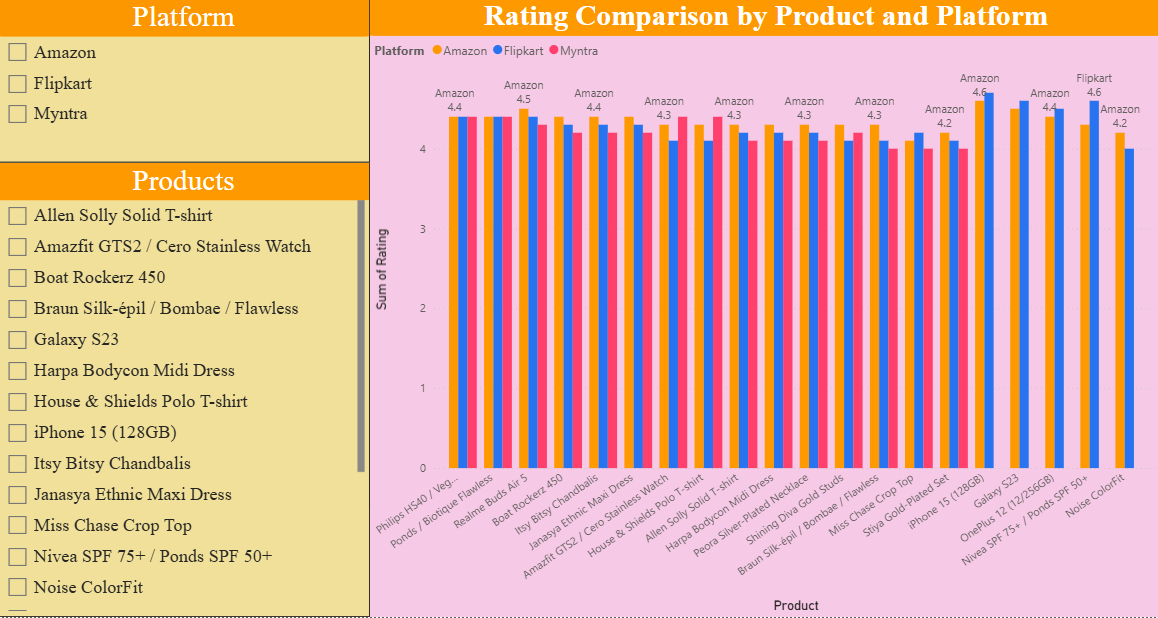

The dashboard page shown, as its layout file describes it:
{"tool":"powerbi","page":{"name":"Ratings Comparision","canvas":[1280,720],"ordinal":2},"visuals":[{"type":"slicer","title":"Platform","fields":{"Values":["product_comparison_long.Platform"]},"box":[0,41.2,410.3,179.8],"z":0},{"type":"slicer","title":"Products","fields":{"Values":["product_comparison_long.Product"]},"box":[0,220.5,410.3,499.5],"z":1000},{"type":"clusteredColumnChart","title":"Rating Comparison by Product and Platform","fields":{"Series":["product_comparison_long.Platform"],"Category":["product_comparison_long.Product"],"Y":["Sum(product_comparison_long.Rating)"]},"box":[410.3,41.2,870,679.2],"z":2000}]}

Visuals, with their boxes on the page's 1280x720 design canvas (x1, y1, x2, y2). These are canvas units, not pixel positions in the 1158x618 screenshot, which may show the page scaled, cropped or inside an application window:
"Platform" slicer: [0, 41, 410, 221]
"Products" slicer: [0, 220, 410, 720]
"Rating Comparison by Product and Platform" clusteredColumnChart: [410, 41, 1280, 720]
